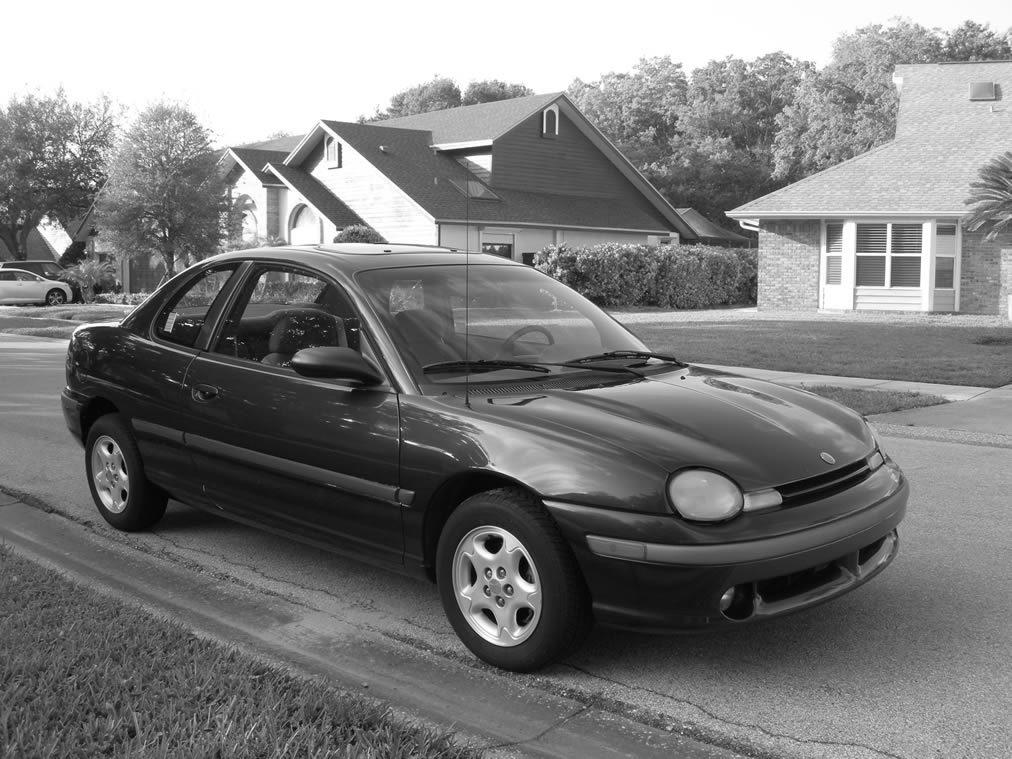car: (62, 236, 916, 675)
